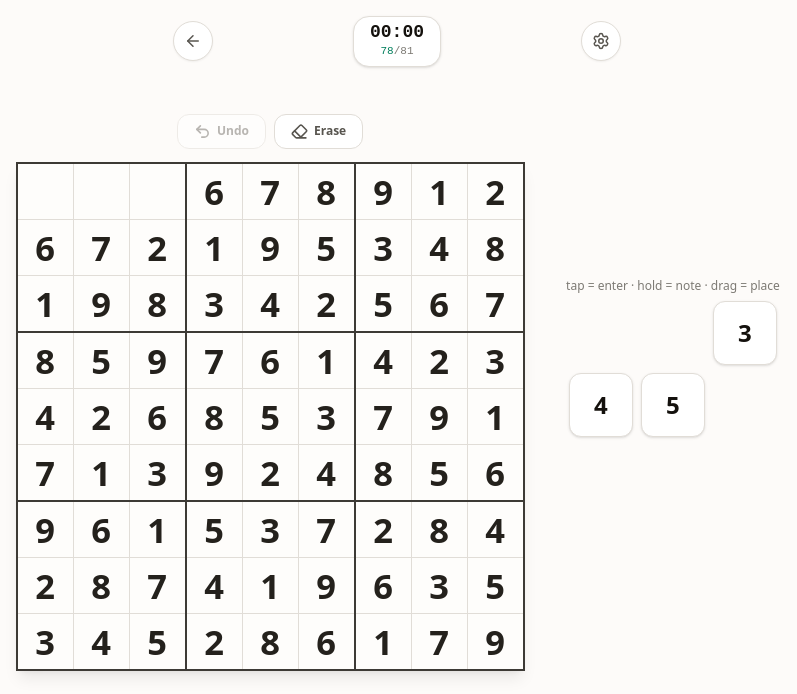
Test case: MultiplayerBoard local autosave › keeps the cell selected after a numpad hold places a note
Click the cell named "Cell row 1 column 1, empty": [45, 192] box [18,164,73,219]
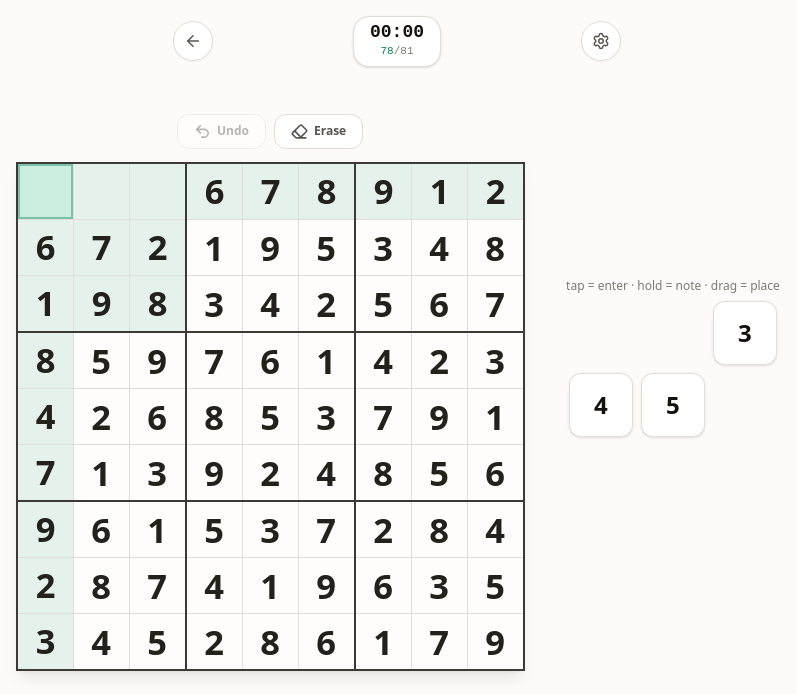
Press the mouse on the button labelled "5": [673, 405] box [641,373,705,437]
Wait 500 ms
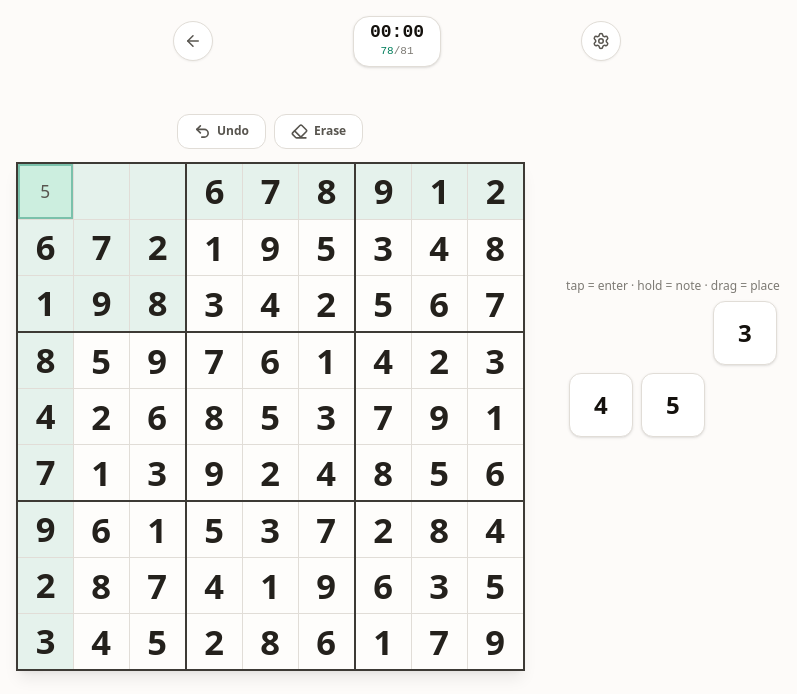
Result: the cell named "Cell row 1 column 1, empty" reads "5" at [40,180,50,203]
